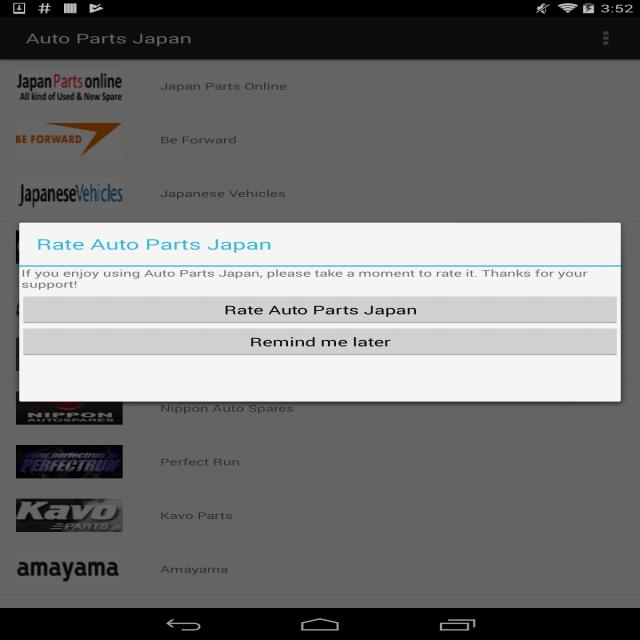button: (0, 544, 640, 606), (0, 486, 640, 543), (0, 114, 640, 168), (1, 169, 640, 221), (0, 433, 640, 483), (2, 61, 638, 110), (24, 296, 617, 322), (25, 330, 615, 355), (590, 24, 618, 48)
heading: (36, 237, 278, 256), (24, 30, 198, 48)
image: (9, 554, 132, 596), (12, 67, 129, 107), (13, 120, 126, 161), (15, 176, 124, 216), (12, 497, 128, 534), (16, 444, 124, 482)
text: (16, 268, 591, 292), (156, 76, 294, 98), (155, 185, 290, 204), (154, 402, 304, 418), (152, 132, 250, 150), (156, 453, 246, 472), (156, 560, 232, 578), (153, 510, 240, 525)
